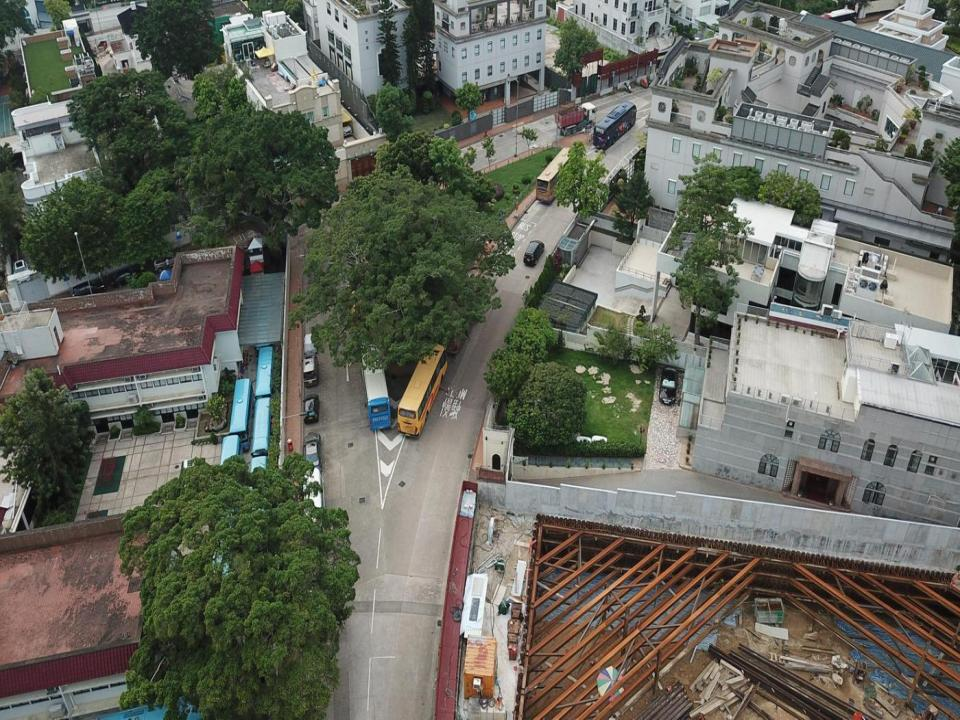bus: (398, 337, 448, 435), (445, 267, 486, 355), (360, 330, 392, 431), (535, 146, 578, 204), (348, 261, 376, 348), (594, 100, 636, 150), (301, 467, 324, 551), (213, 511, 238, 588), (229, 379, 254, 452), (250, 456, 273, 530), (809, 8, 857, 40), (251, 397, 274, 456), (221, 435, 240, 497), (254, 286, 273, 348), (255, 347, 276, 398)
car: (110, 263, 140, 290), (304, 430, 321, 470), (660, 366, 678, 403), (11, 260, 29, 284), (336, 114, 352, 139), (304, 329, 317, 352)
truck: (555, 101, 595, 136)
van: (149, 250, 186, 272), (72, 280, 105, 300), (522, 240, 545, 268), (302, 354, 318, 386)
